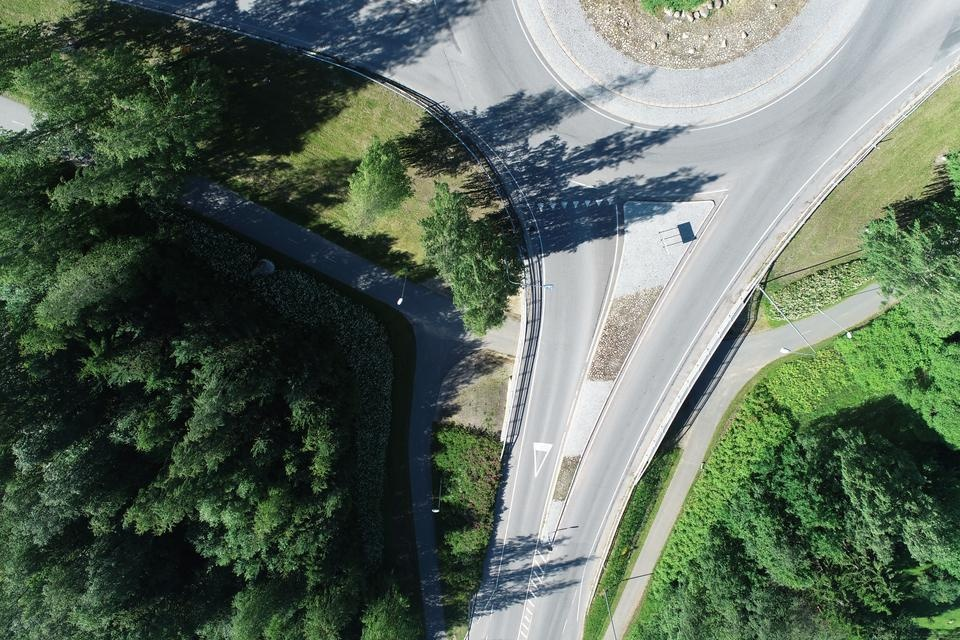roundabout: (372, 0, 960, 229)
